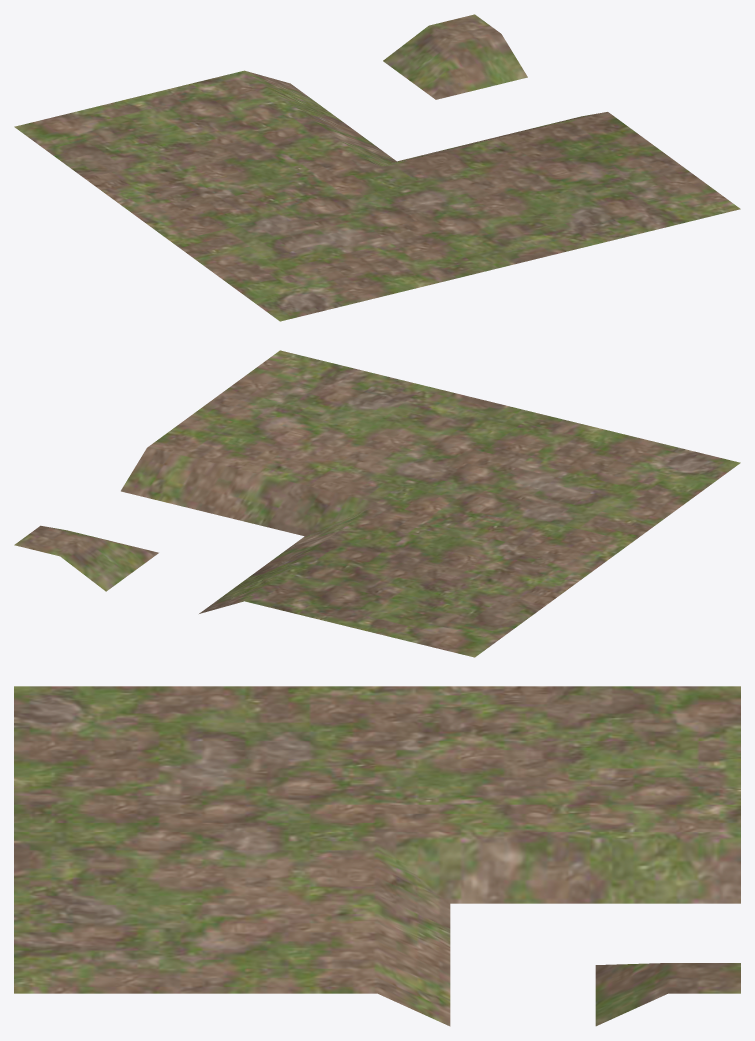
File: ground5.FBX
The picture shows the model from 3 angles, top to bottom: view 1: azimuth 30°, elevation 25°; view 2: azimuth 150°, elevation 25°; view 3: azimuth 270°, elevation 25°; orthographic projection. The views are drawn at different scales.
Parts seen in each view (by area): view 1: ground5; view 2: ground5; view 3: ground5.
Part boxes in pixels (x1,y1,x2,y2): ground5: (14, 14, 740, 321); ground5: (14, 350, 740, 657); ground5: (14, 686, 740, 1026).
Size of the model in its own units: 200 by 10 by 200.
